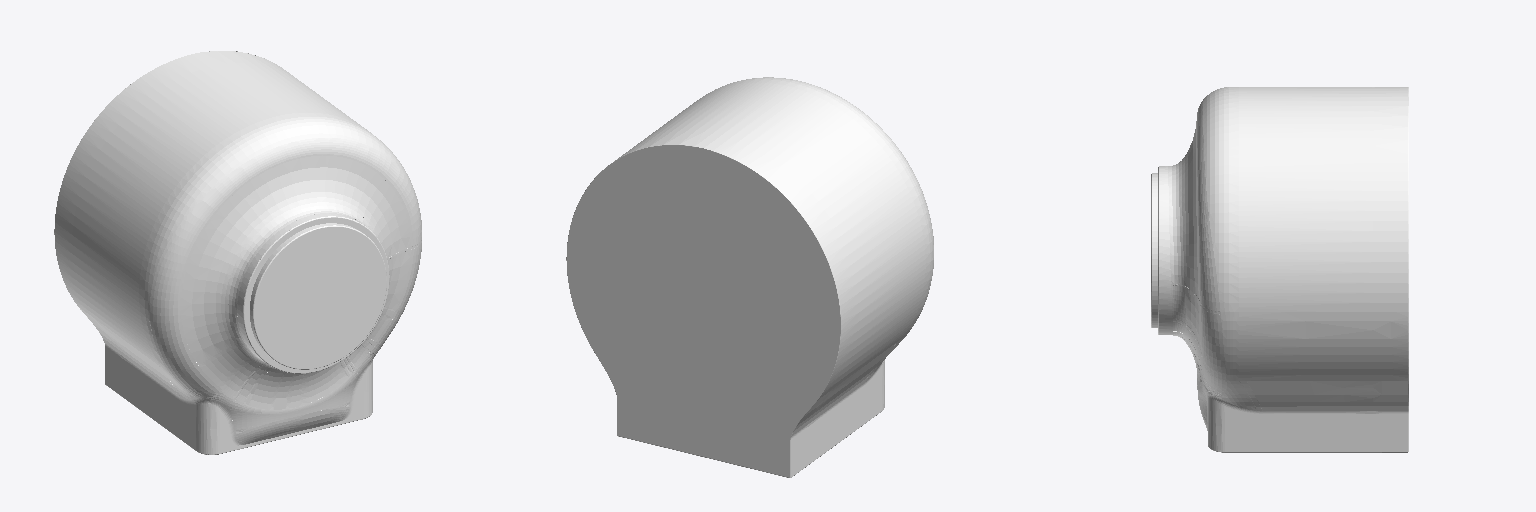
File: joint1.obj
3 renders of one model, left to right at view 1: azimuth 30°, elevation 25°; view 2: azimuth 150°, elevation 25°; view 3: azimuth 270°, elevation 25°, orthographic.
Size of the model in its own units: 0.09 by 0.0968 by 0.073.